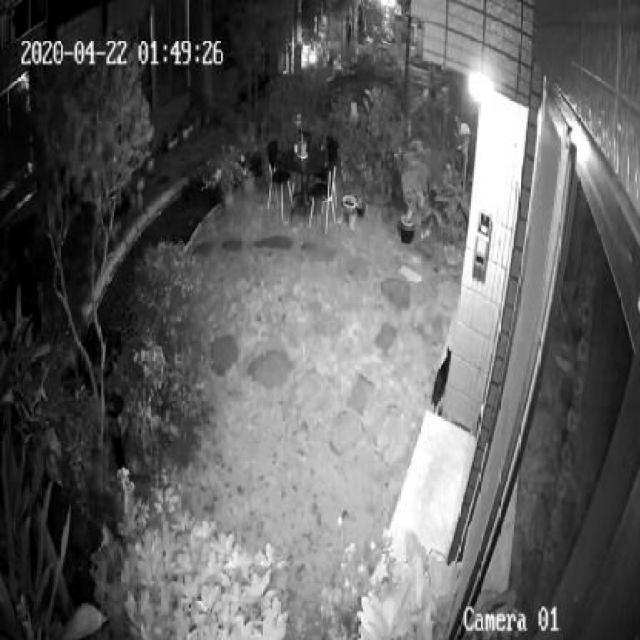animals: (430, 341, 456, 416)
